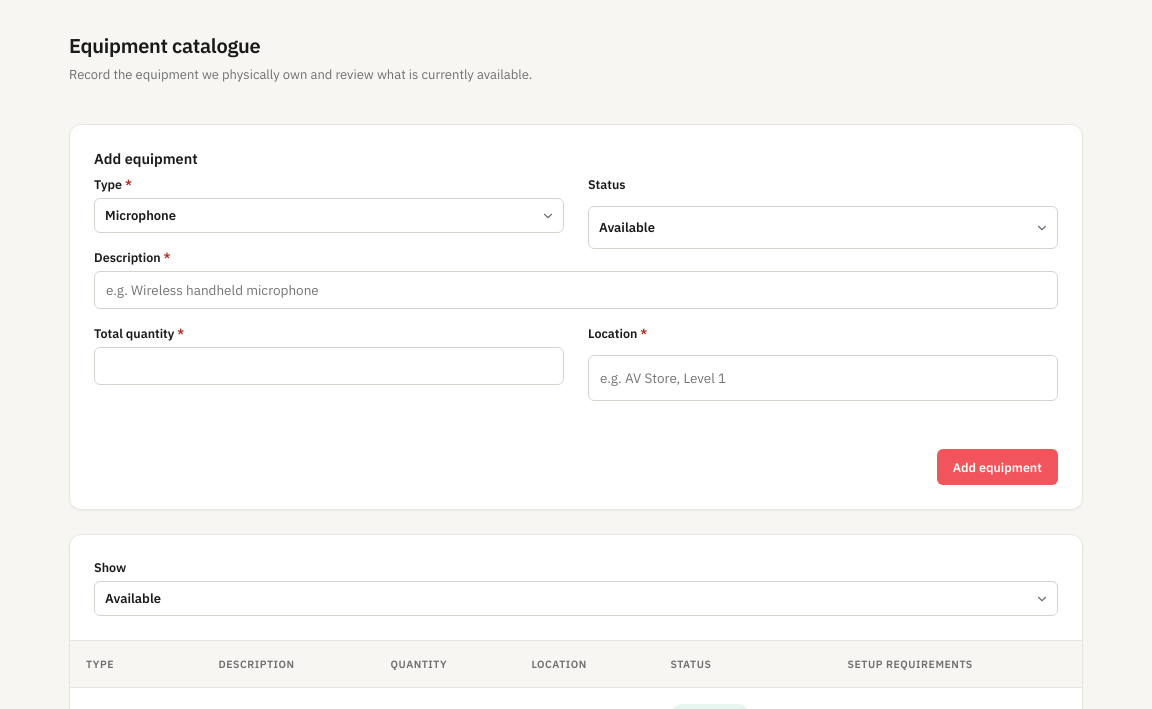
Test: requires description and location
In the number field labelled "Total quantity *": (329, 366) left=94, top=347, right=564, bottom=385, type "2"
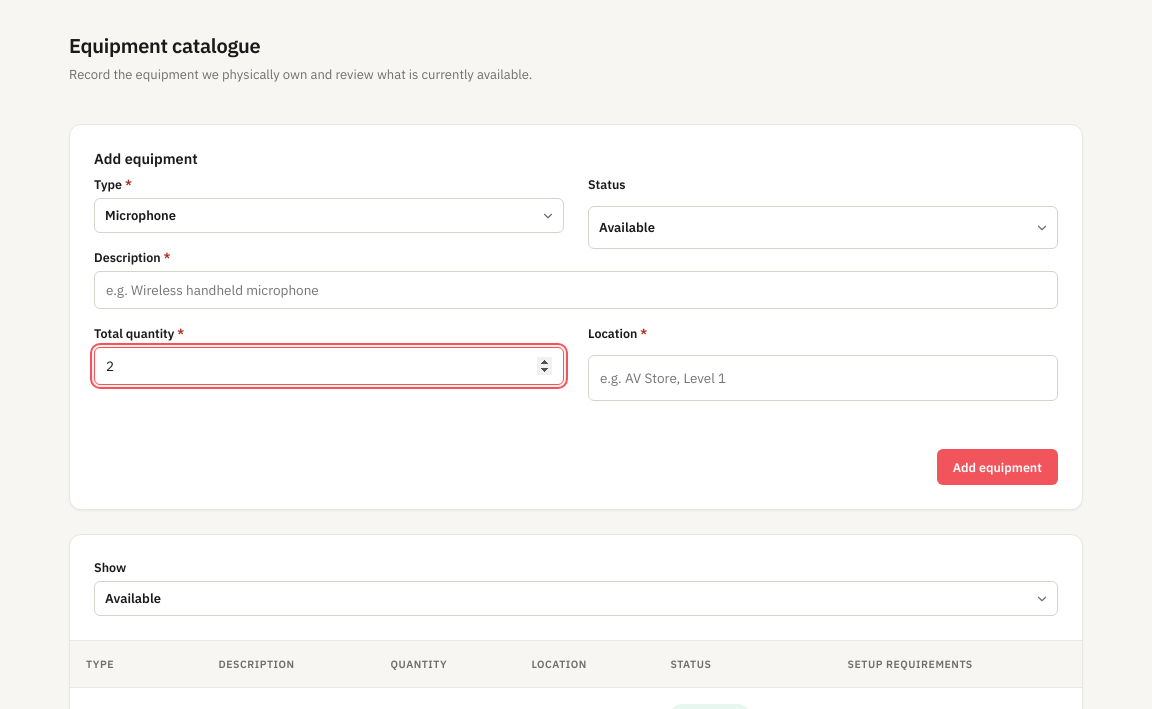
Click the button "Add equipment": click(997, 467) left=937, top=449, right=1058, bottom=485
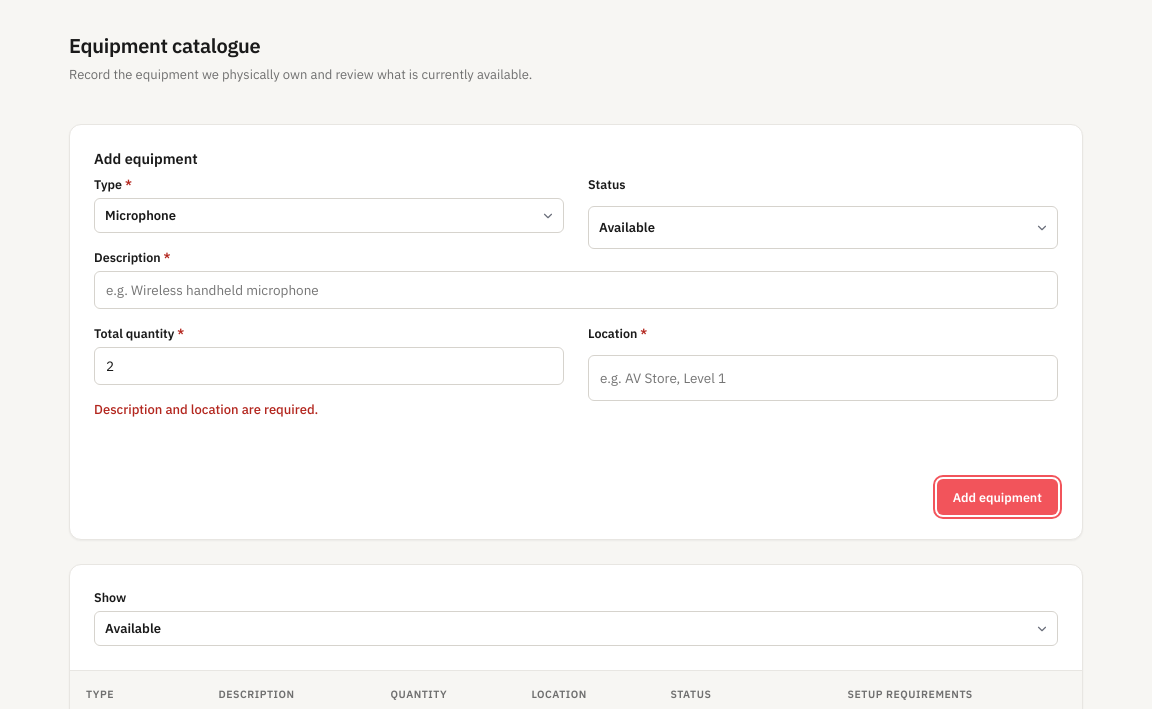
Check: the message shows "required", box left=94, top=401, right=318, bottom=418
